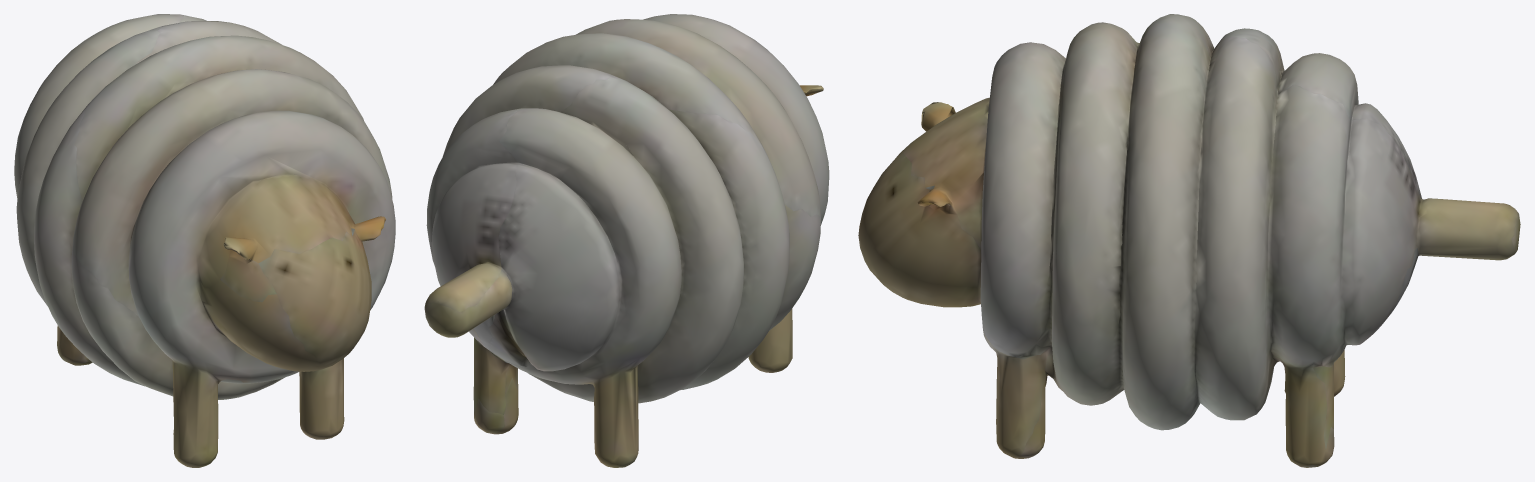
Rendered from LACING_SHEEP-high.glb.
3 renders of one model, left to right at view 1: azimuth 30°, elevation 25°; view 2: azimuth 150°, elevation 25°; view 3: azimuth 270°, elevation 25°, orthographic. The views are drawn at different scales.
Visible parts, largest first — view 1: LACING_SHEEP; view 2: LACING_SHEEP; view 3: LACING_SHEEP.
Part boxes in pixels (<box>): LACING_SHEEP: <box>14,14,395,467</box>; LACING_SHEEP: <box>424,14,829,467</box>; LACING_SHEEP: <box>858,14,1520,467</box>.
Bounding box in the file's own units: 0.085 × 0.0892 × 0.1358.
Materials: 1 (1 with a texture image).
